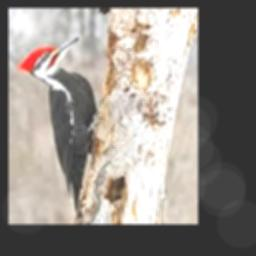Woodpecker: (17, 35, 98, 214)
